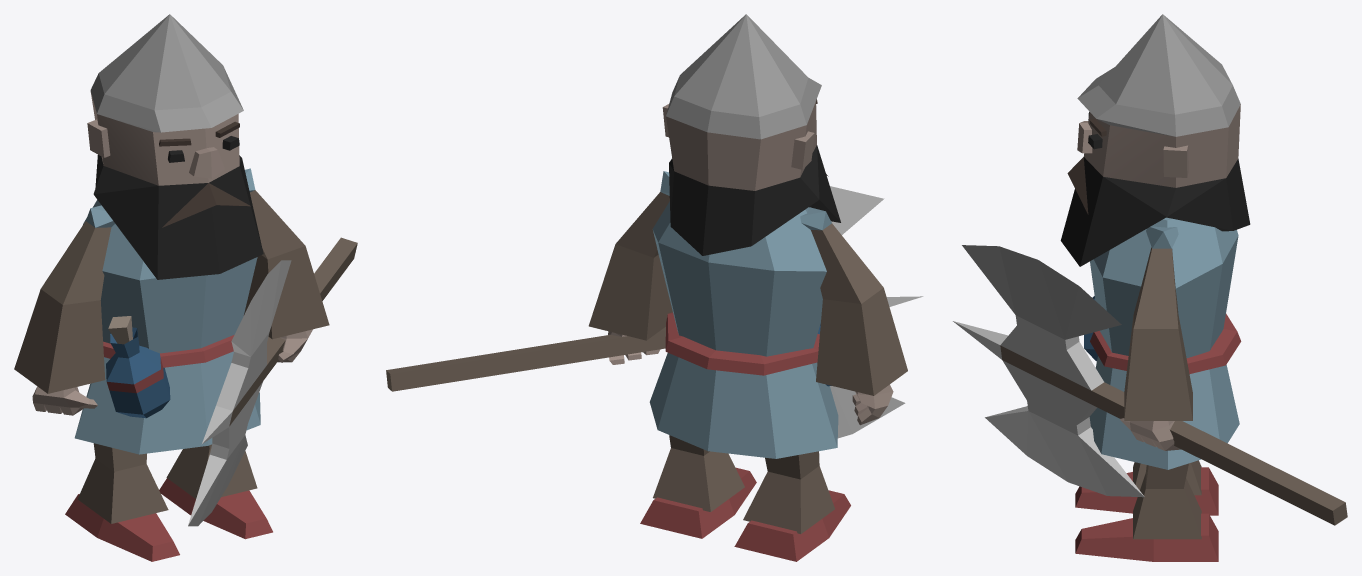
The picture shows the model from 3 angles, left to right: view 1: azimuth 30°, elevation 25°; view 2: azimuth 150°, elevation 25°; view 3: azimuth 270°, elevation 25°; orthographic projection.
Visible parts, largest first — view 1: Dwarf_medievalfantasyassets; view 2: Dwarf_medievalfantasyassets; view 3: Dwarf_medievalfantasyassets.
Part boxes in pixels (bbox=[...]): Dwarf_medievalfantasyassets: bbox=[14, 14, 357, 561]; Dwarf_medievalfantasyassets: bbox=[386, 14, 923, 561]; Dwarf_medievalfantasyassets: bbox=[953, 14, 1347, 561].
Size of the model in its own units: 5.52 by 6.41 by 4.51.
Materials: 1 (1 with a texture image).
